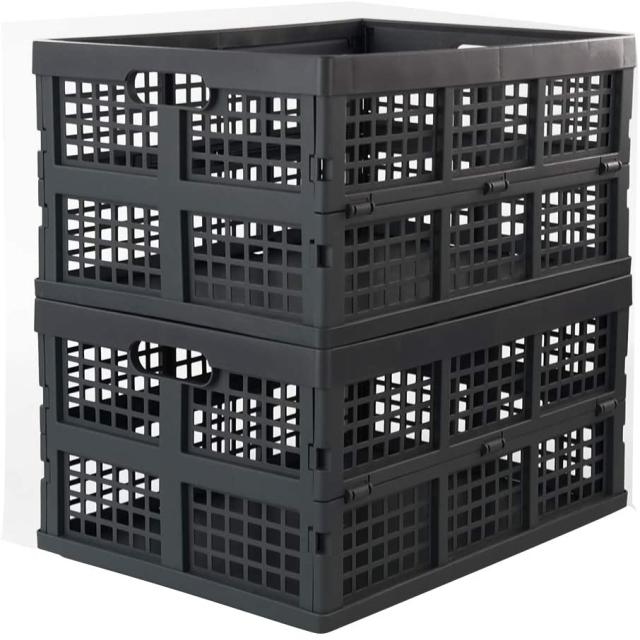basket: (32, 19, 636, 632)
